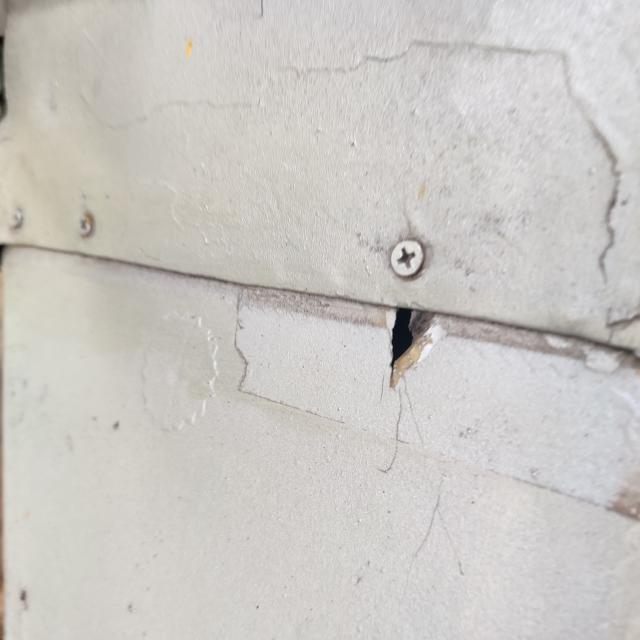crack: (363, 284, 467, 418)
